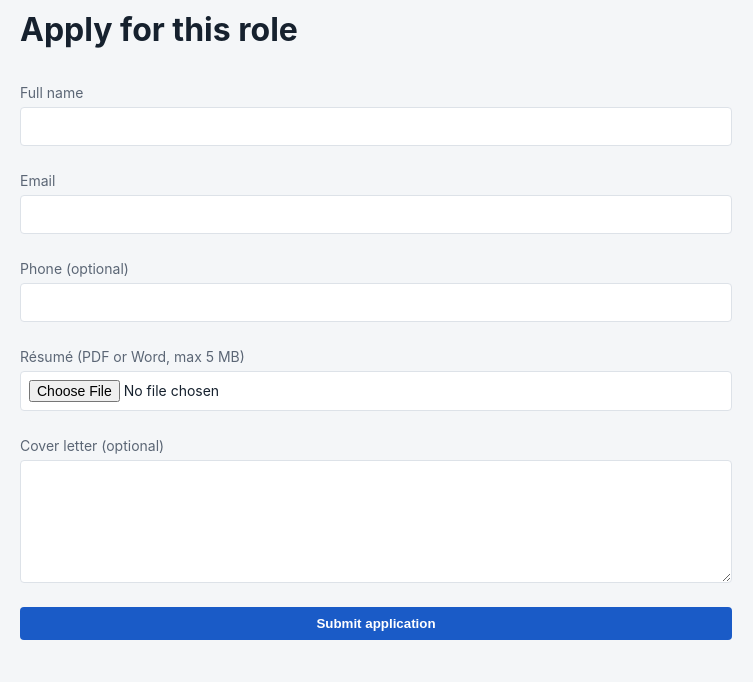
ApplicationForm › blocks submission and shows field errors when required fields are missing
(page scrolled)
Click the button "Submit application" at (376,623), box [20,607,732,640]
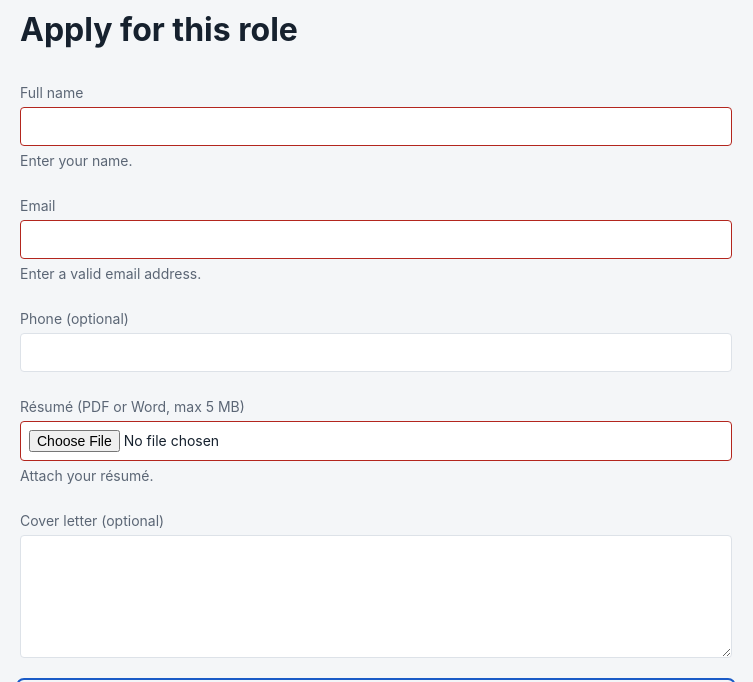
Now the text "Enter your name." is shown, box [20,152,133,169]
Now the text "Enter a valid email address." is shown, box [20,265,201,282]
Now the text "Attach your résumé." is shown, box [20,467,154,484]
